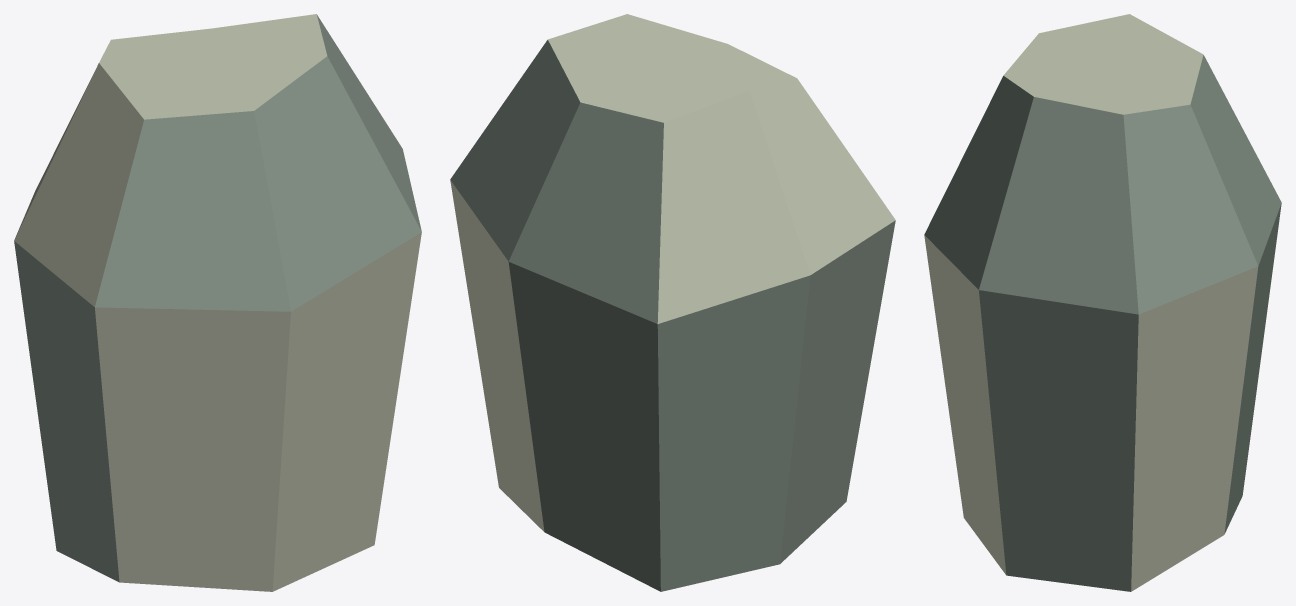
3 views of the same model, side by side, from view 1: azimuth 30°, elevation 25°; view 2: azimuth 150°, elevation 25°; view 3: azimuth 270°, elevation 25° (orthographic). The views are drawn at different scales.
Parts seen in each view (by area): view 1: Silicate_Deposit; view 2: Silicate_Deposit; view 3: Silicate_Deposit.
Boxes of the visible parts, box(x1,y1,x2,y2) form: Silicate_Deposit: box(14, 14, 421, 591); Silicate_Deposit: box(450, 14, 895, 591); Silicate_Deposit: box(924, 14, 1281, 591).
Size of the model in its own units: 0.7492 by 0.9051 by 0.6288.
